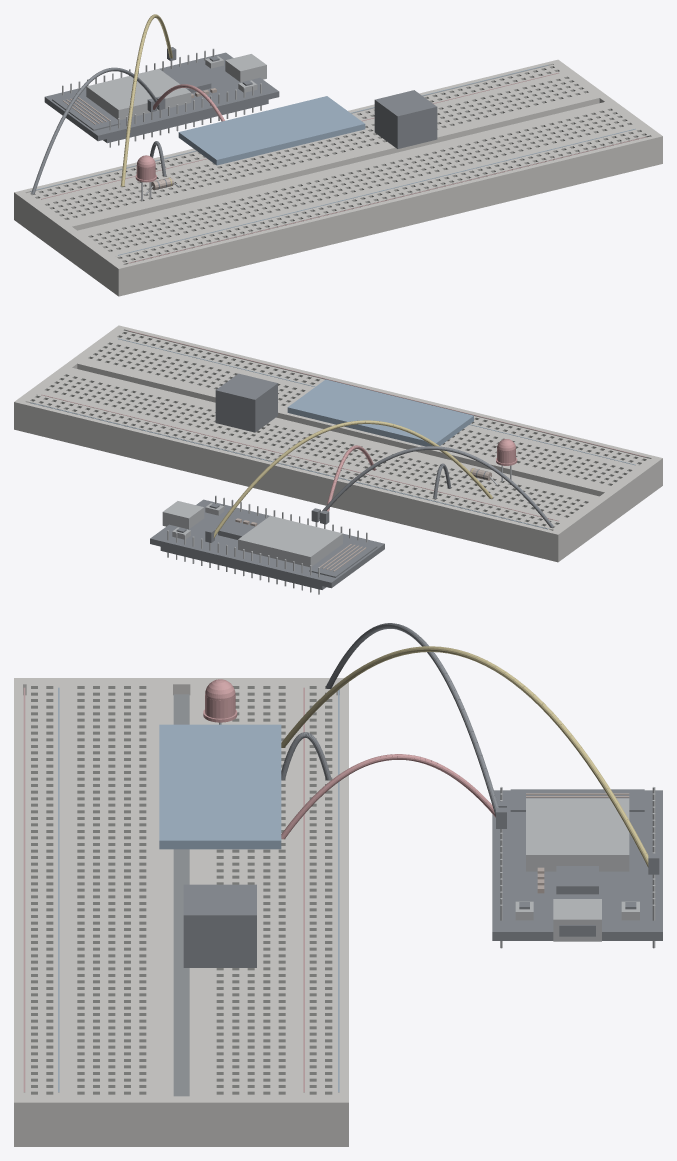
Rendered from step-10.glb.
The picture shows the model from 3 angles, top to bottom: view 1: azimuth 30°, elevation 25°; view 2: azimuth 150°, elevation 25°; view 3: azimuth 270°, elevation 25°; orthographic projection. The views are drawn at different scales.
Visible parts, largest first — view 1: breadboard__mesh, uno__mesh, sensor__mesh, buzzer__mesh, wire_led_signal__mesh, wire_ground__mesh, led_red__mesh, wire_sensor_power__mesh; view 2: breadboard__mesh, uno__mesh, sensor__mesh, buzzer__mesh, wire_led_signal__mesh, wire_ground__mesh, led_red__mesh, wire_sensor_power__mesh; view 3: breadboard__mesh, uno__mesh, sensor__mesh, buzzer__mesh, wire_led_signal__mesh, wire_ground__mesh, wire_sensor_power__mesh, led_red__mesh.
Boxes of the visible parts, box(x1,y1,x2,y2) form: breadboard__mesh: box(14, 59, 662, 296); uno__mesh: box(44, 48, 279, 147); sensor__mesh: box(178, 96, 365, 165); buzzer__mesh: box(374, 90, 437, 148); wire_led_signal__mesh: box(121, 14, 176, 186); wire_ground__mesh: box(31, 67, 165, 194); led_red__mesh: box(135, 155, 156, 200); wire_sensor_power__mesh: box(147, 84, 224, 121); breadboard__mesh: box(14, 325, 662, 562); uno__mesh: box(150, 495, 384, 594); sensor__mesh: box(287, 379, 473, 446); buzzer__mesh: box(215, 373, 277, 432); wire_led_signal__mesh: box(205, 420, 492, 542); wire_ground__mesh: box(311, 446, 553, 527); led_red__mesh: box(496, 439, 517, 482); wire_sensor_power__mesh: box(320, 445, 375, 524); breadboard__mesh: box(14, 678, 348, 1146); uno__mesh: box(492, 787, 662, 948); sensor__mesh: box(159, 724, 281, 849); buzzer__mesh: box(183, 884, 256, 967); wire_led_signal__mesh: box(281, 646, 659, 874); wire_ground__mesh: box(326, 623, 506, 828); wire_sensor_power__mesh: box(281, 754, 506, 839); led_red__mesh: box(203, 679, 237, 724).
Bounding box in the file's own units: 0.165 × 0.0366 × 0.1065.
